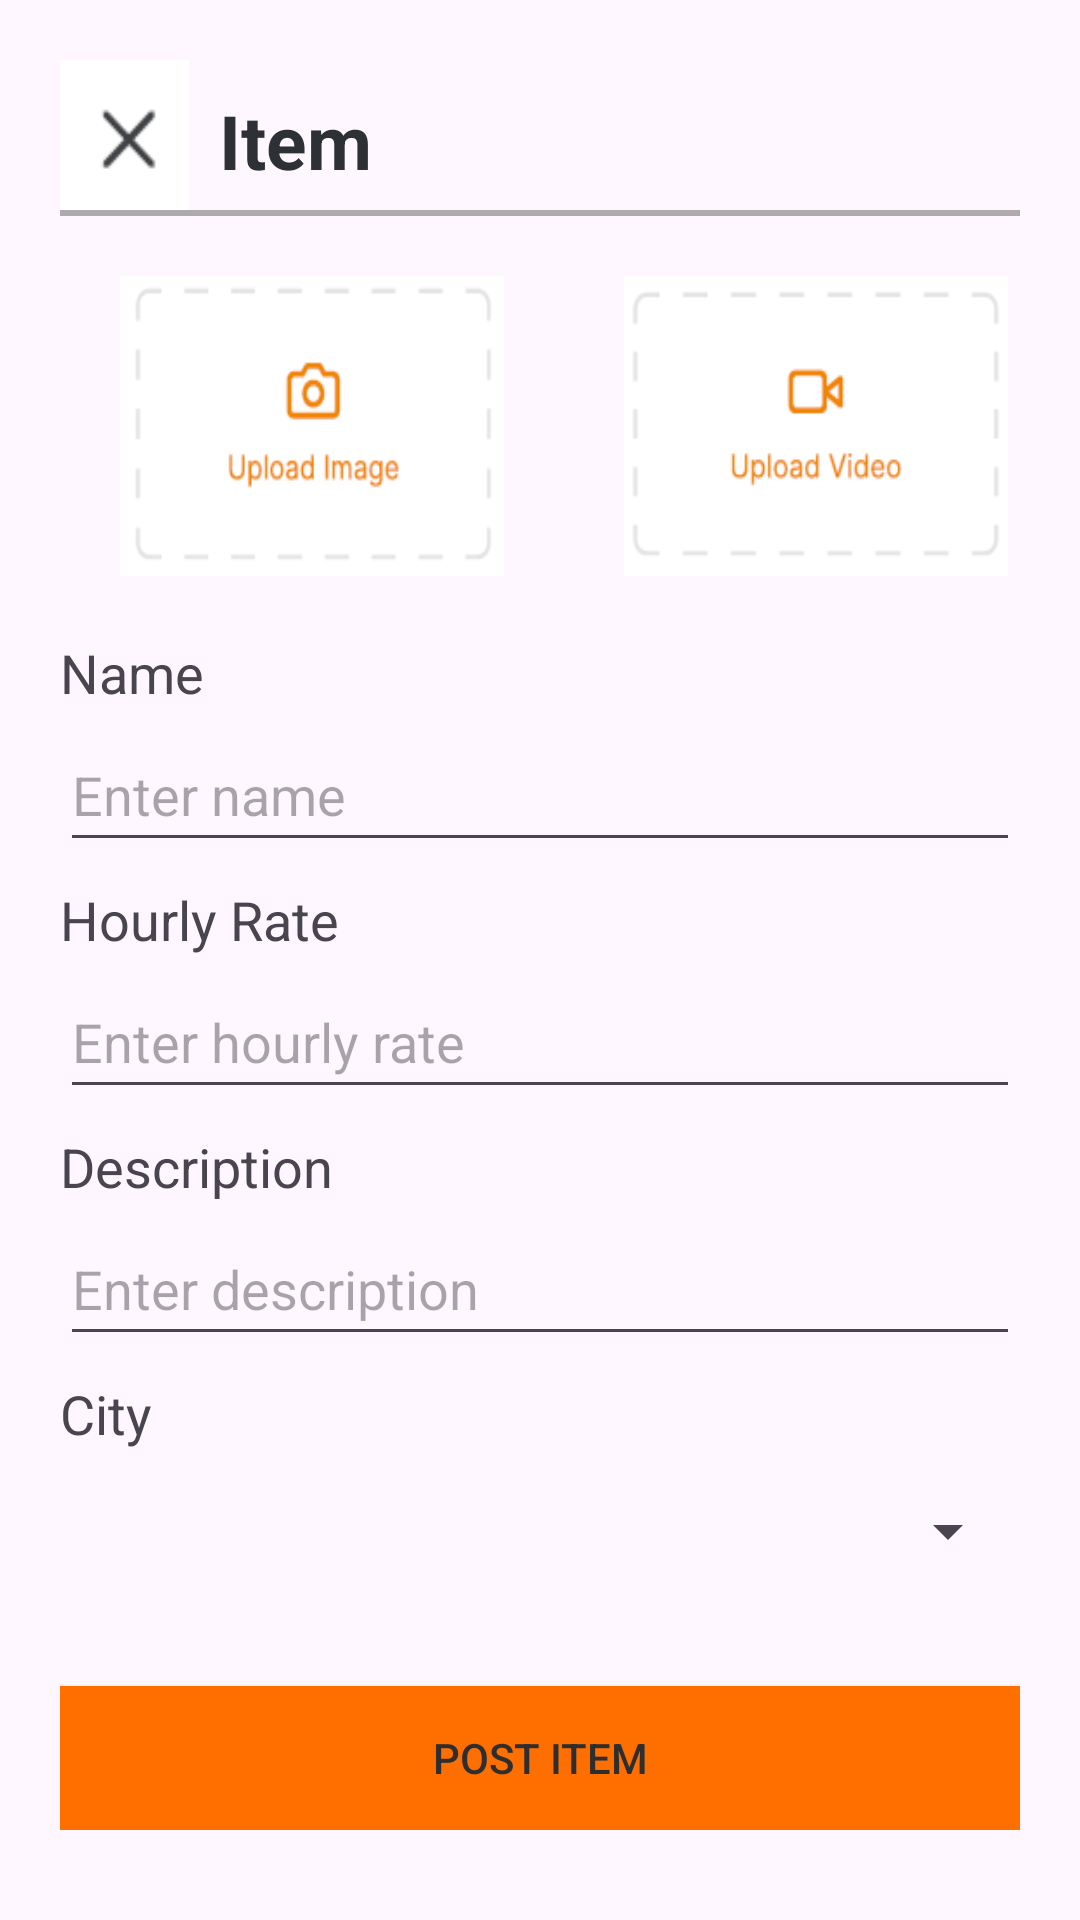

Icon bounding boxes for this 1080px×1920px phone screenshot, format rect(x1, y1, x2, y2):
back: rect(102, 110, 156, 169)
